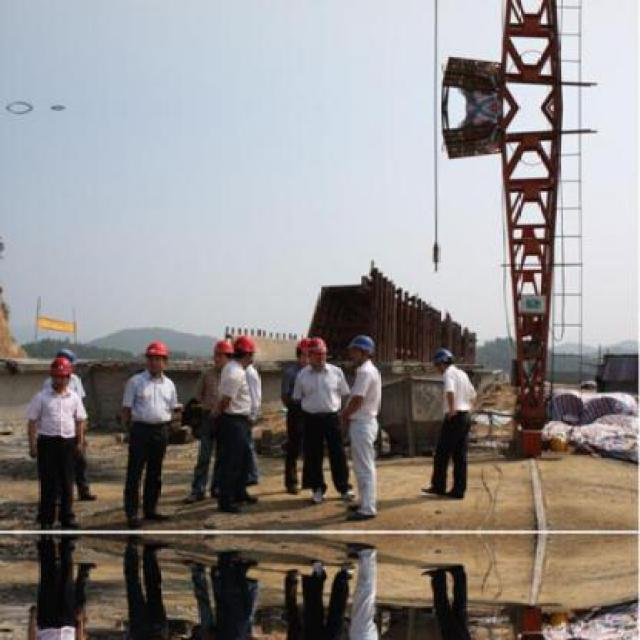helmet: (342, 329, 378, 366), (230, 330, 259, 372), (138, 336, 167, 375), (49, 356, 74, 390), (428, 342, 454, 372), (305, 335, 326, 367), (212, 338, 234, 367), (293, 336, 307, 366)
